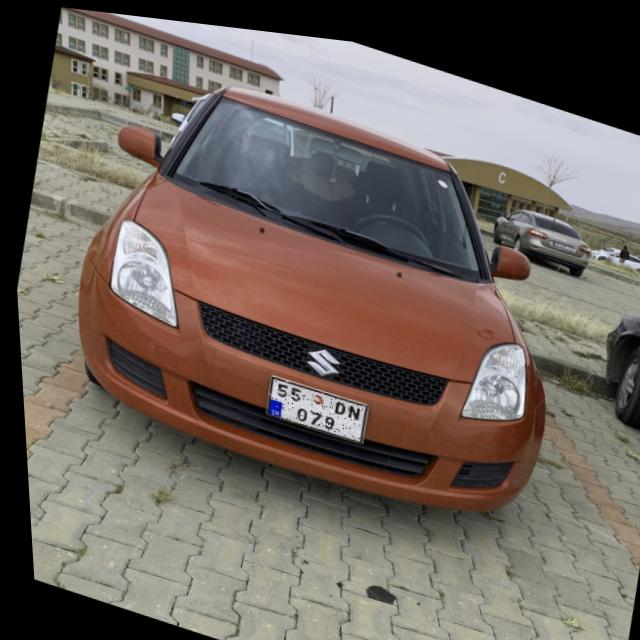license_plate: (259, 368, 364, 437)
